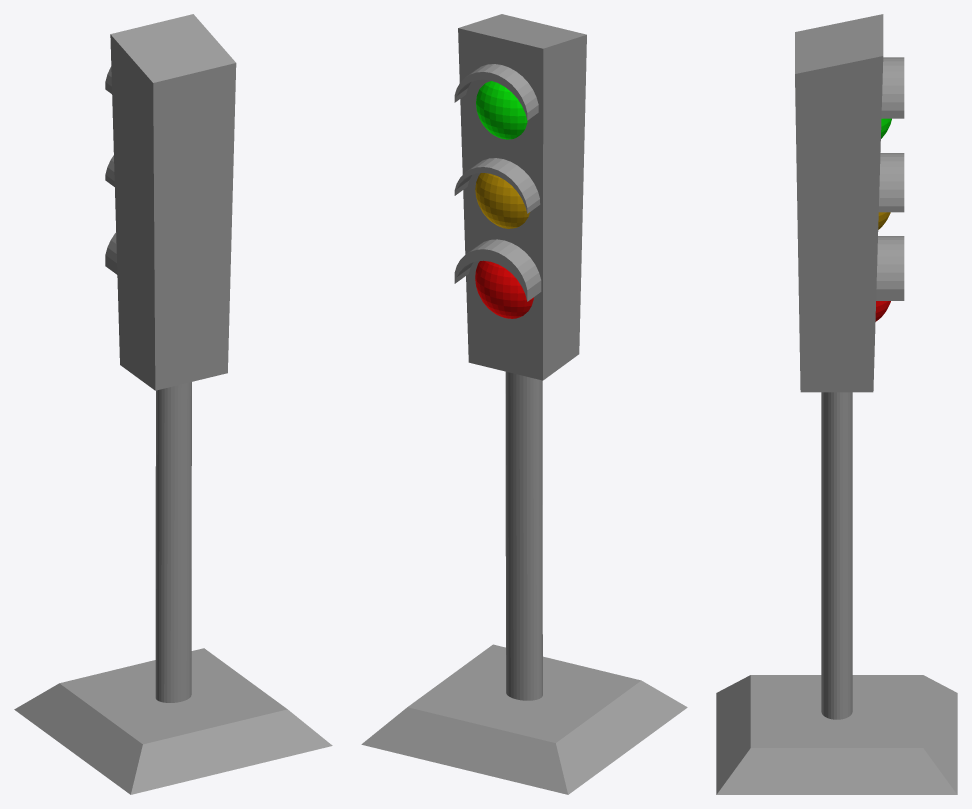
The model's file is semaforo.obj.
The picture shows the model from 3 angles, left to right: view 1: azimuth 30°, elevation 25°; view 2: azimuth 150°, elevation 25°; view 3: azimuth 270°, elevation 25°; orthographic projection. The views are drawn at different scales.
Parts seen in each view (by area): view 1: Cylinder; view 2: Cylinder; view 3: Cylinder.
Part boxes in pixels (<box>): Cylinder: <box>14,14,332,794</box>; Cylinder: <box>361,14,687,794</box>; Cylinder: <box>716,14,957,794</box>.
Bounding box in the file's own units: 2.79 × 9.07 × 2.79.
